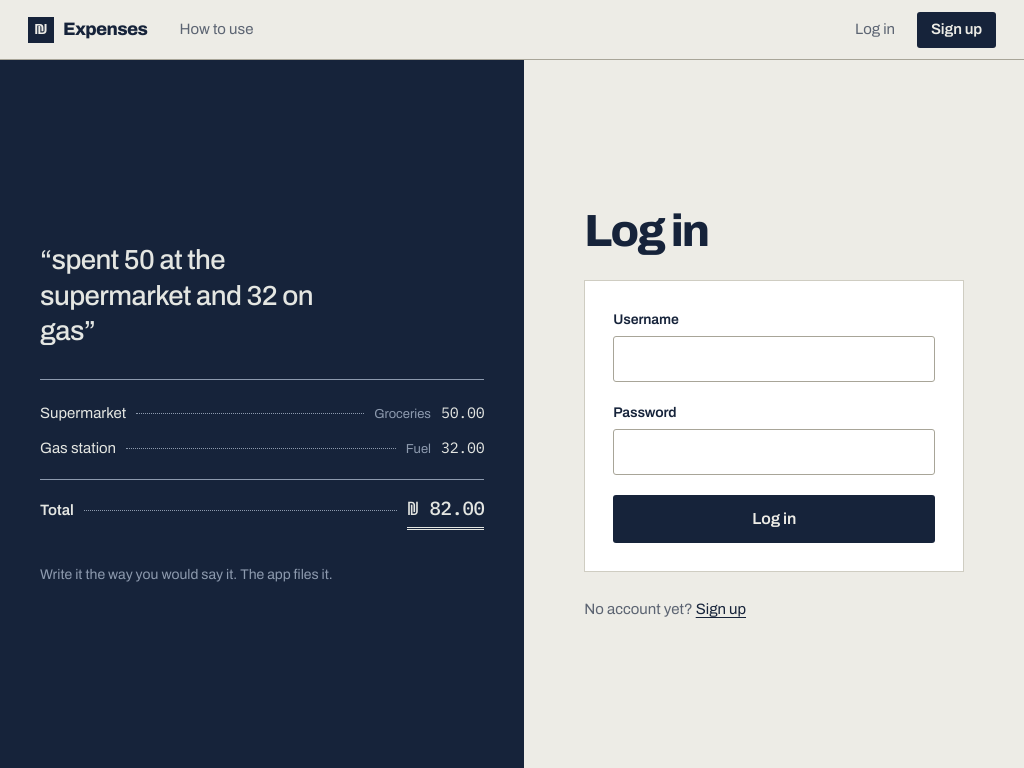
Scenario: LoginPage › takes the user to the chat once logged in
Type "adam" into the field labelled "Username" at (774, 359), box [613,336,935,382]
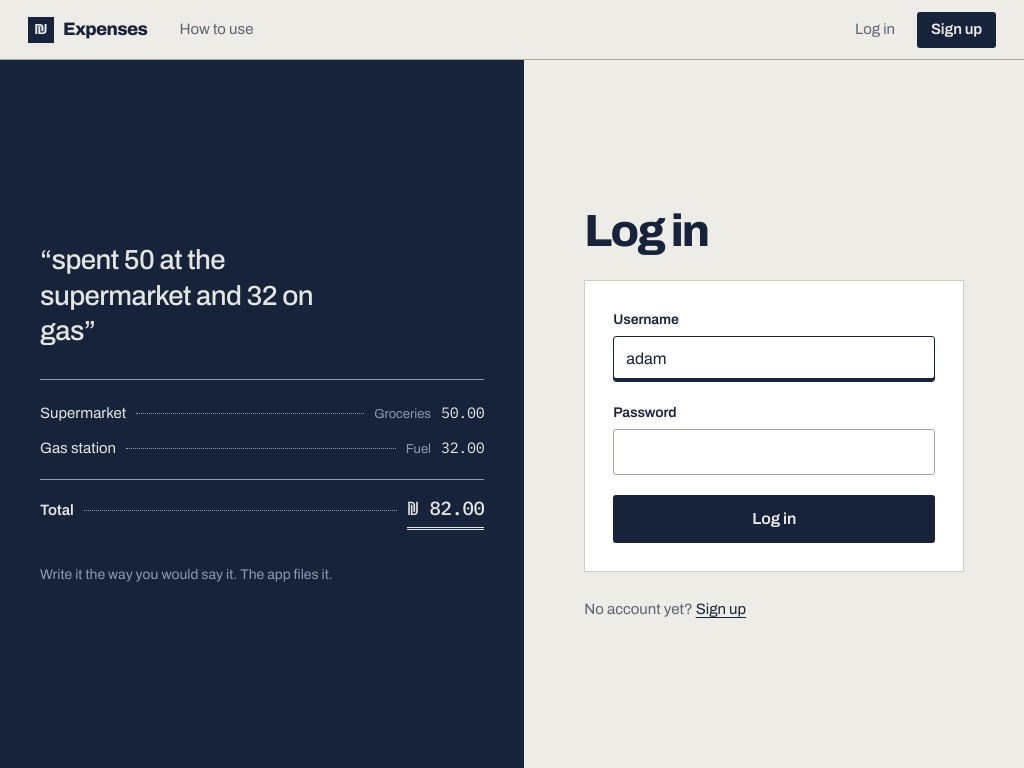
Type "password123" into the password field labelled "Password" at (774, 452), box [613,429,935,475]
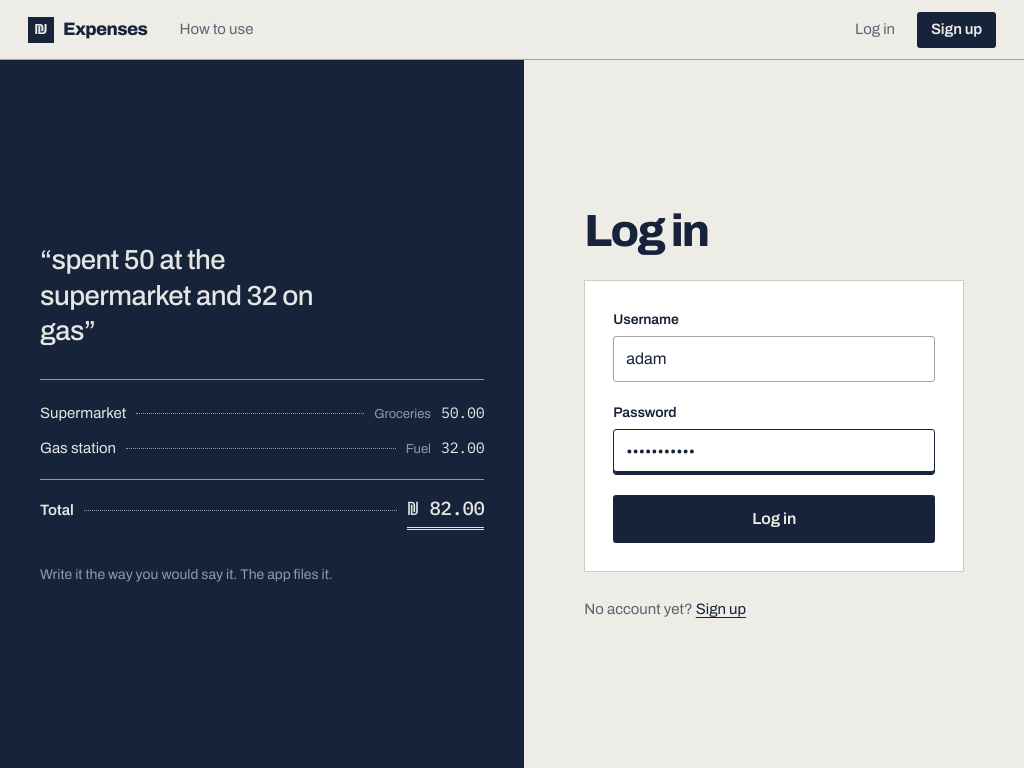
Click the button "Log in" at (774, 519), box [613,495,935,543]
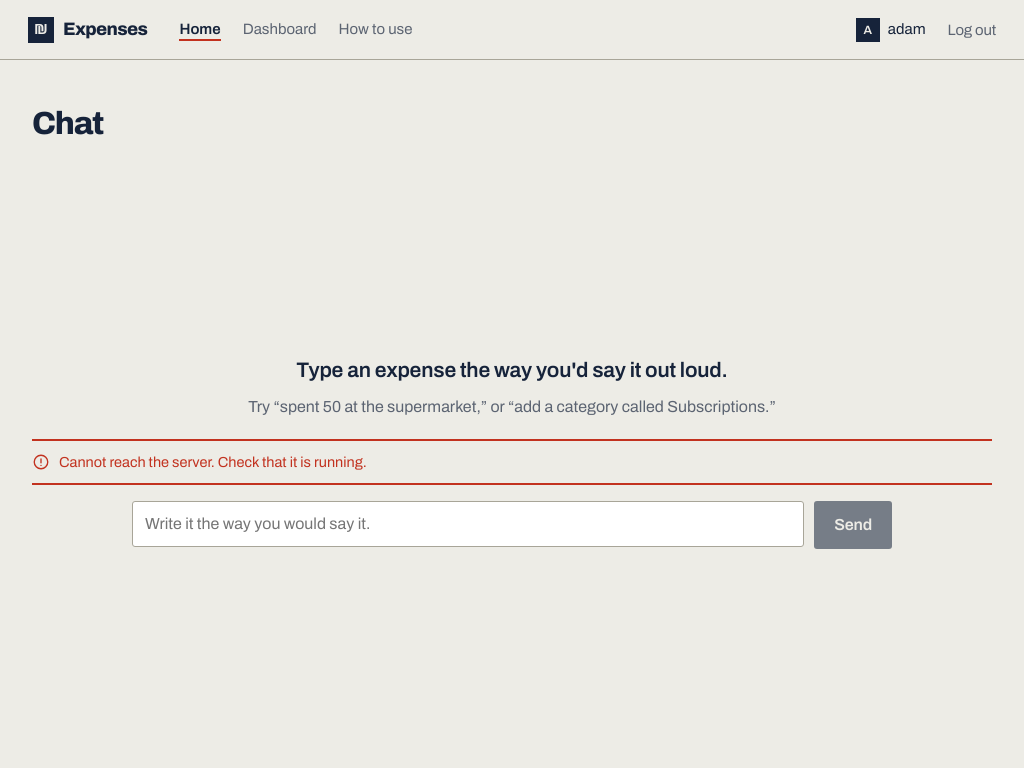
expect the heading "Chat" is shown: met, box [32,106,103,141]
